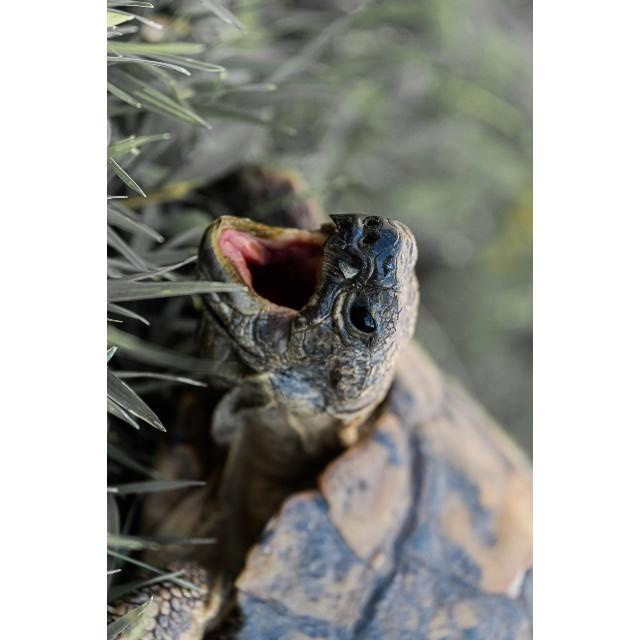turtle: (112, 162, 530, 639)
